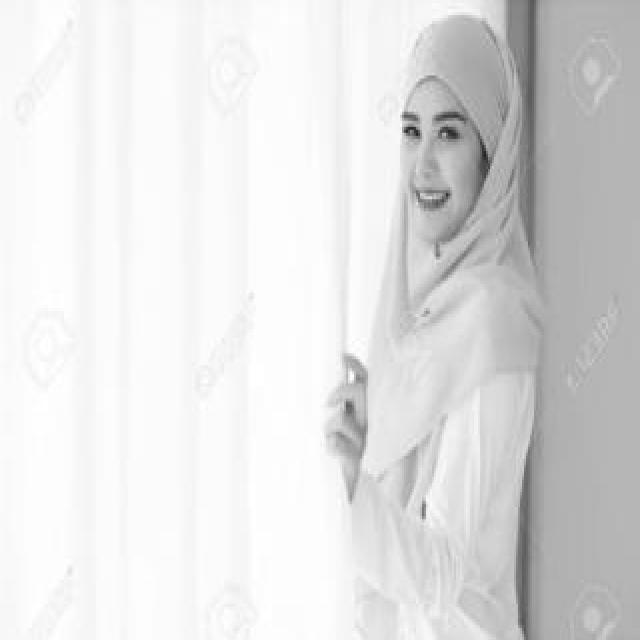Focused: (394, 84, 479, 232)
